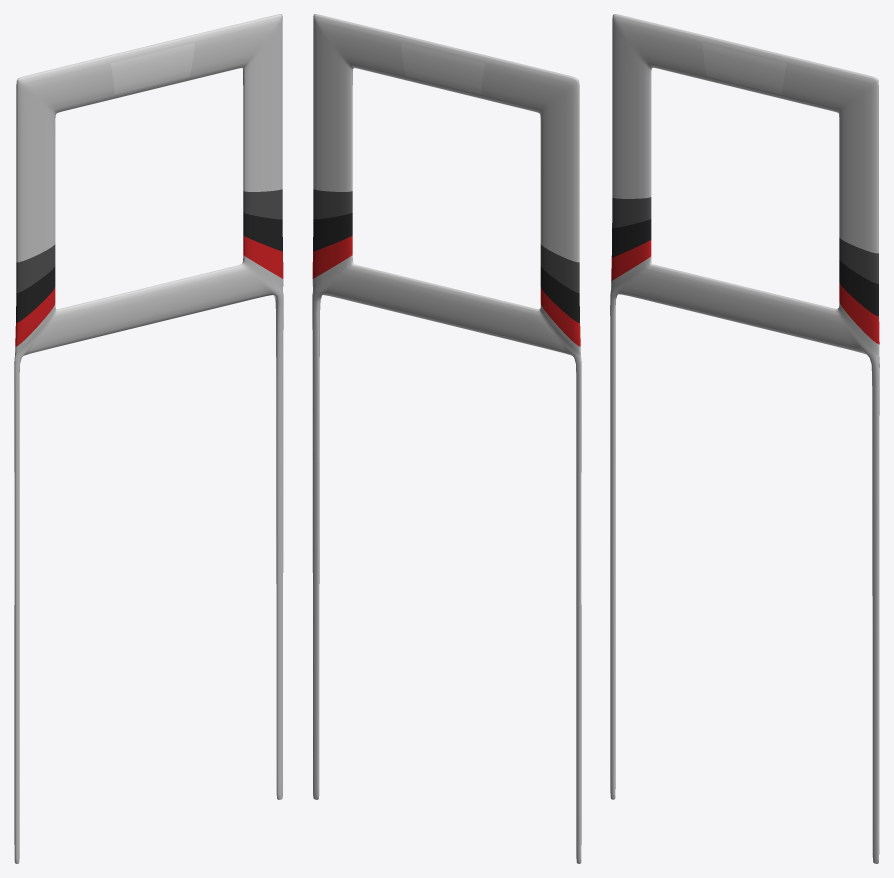
Rendered from square_gate4.fbx.
3 views of the same model, side by side, from view 1: azimuth 30°, elevation 25°; view 2: azimuth 150°, elevation 25°; view 3: azimuth 330°, elevation 25° (orthographic).
Visible parts, largest first — view 1: Cube.001; view 2: Cube.001; view 3: Cube.001.
Boxes of the visible parts, box(x1,y1,x2,y2) form: Cube.001: box(14, 14, 283, 863); Cube.001: box(312, 14, 581, 863); Cube.001: box(610, 14, 879, 863).
Size of the model in its own units: 797 by 2223 by 27.92.
